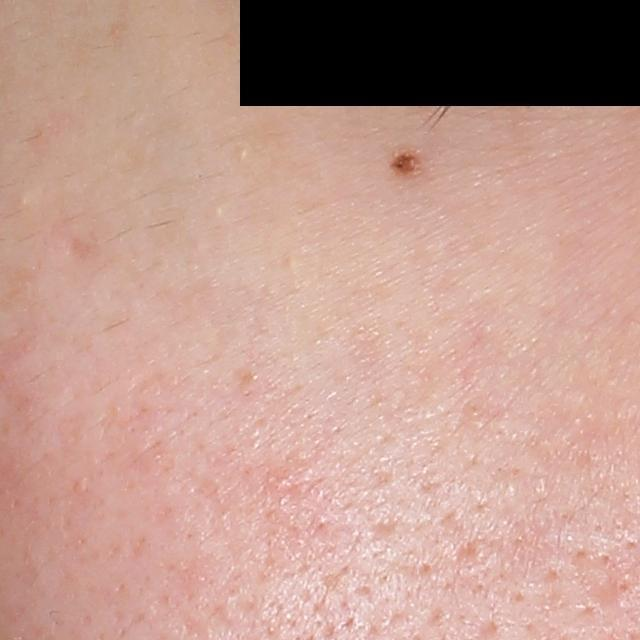nevus: (386, 145, 428, 179)
